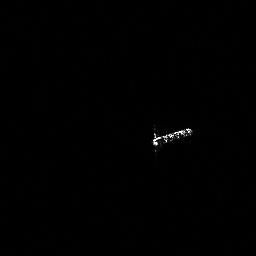ship: (149, 125, 194, 154)
